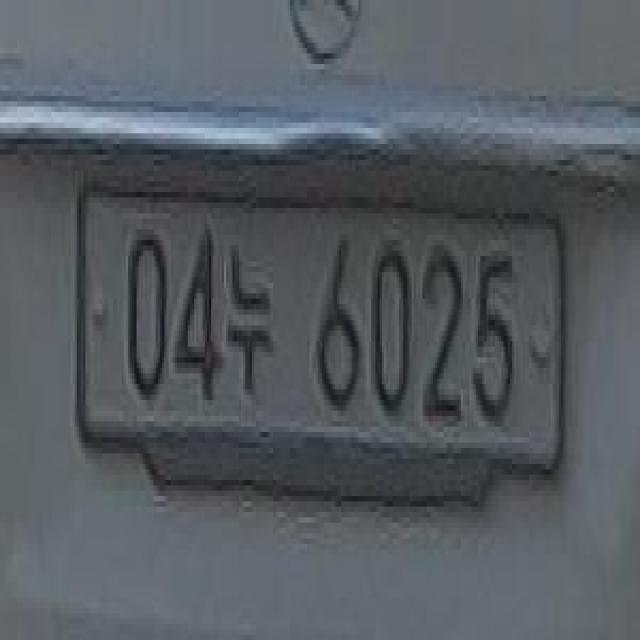illegal_plate: (75, 173, 566, 512)
